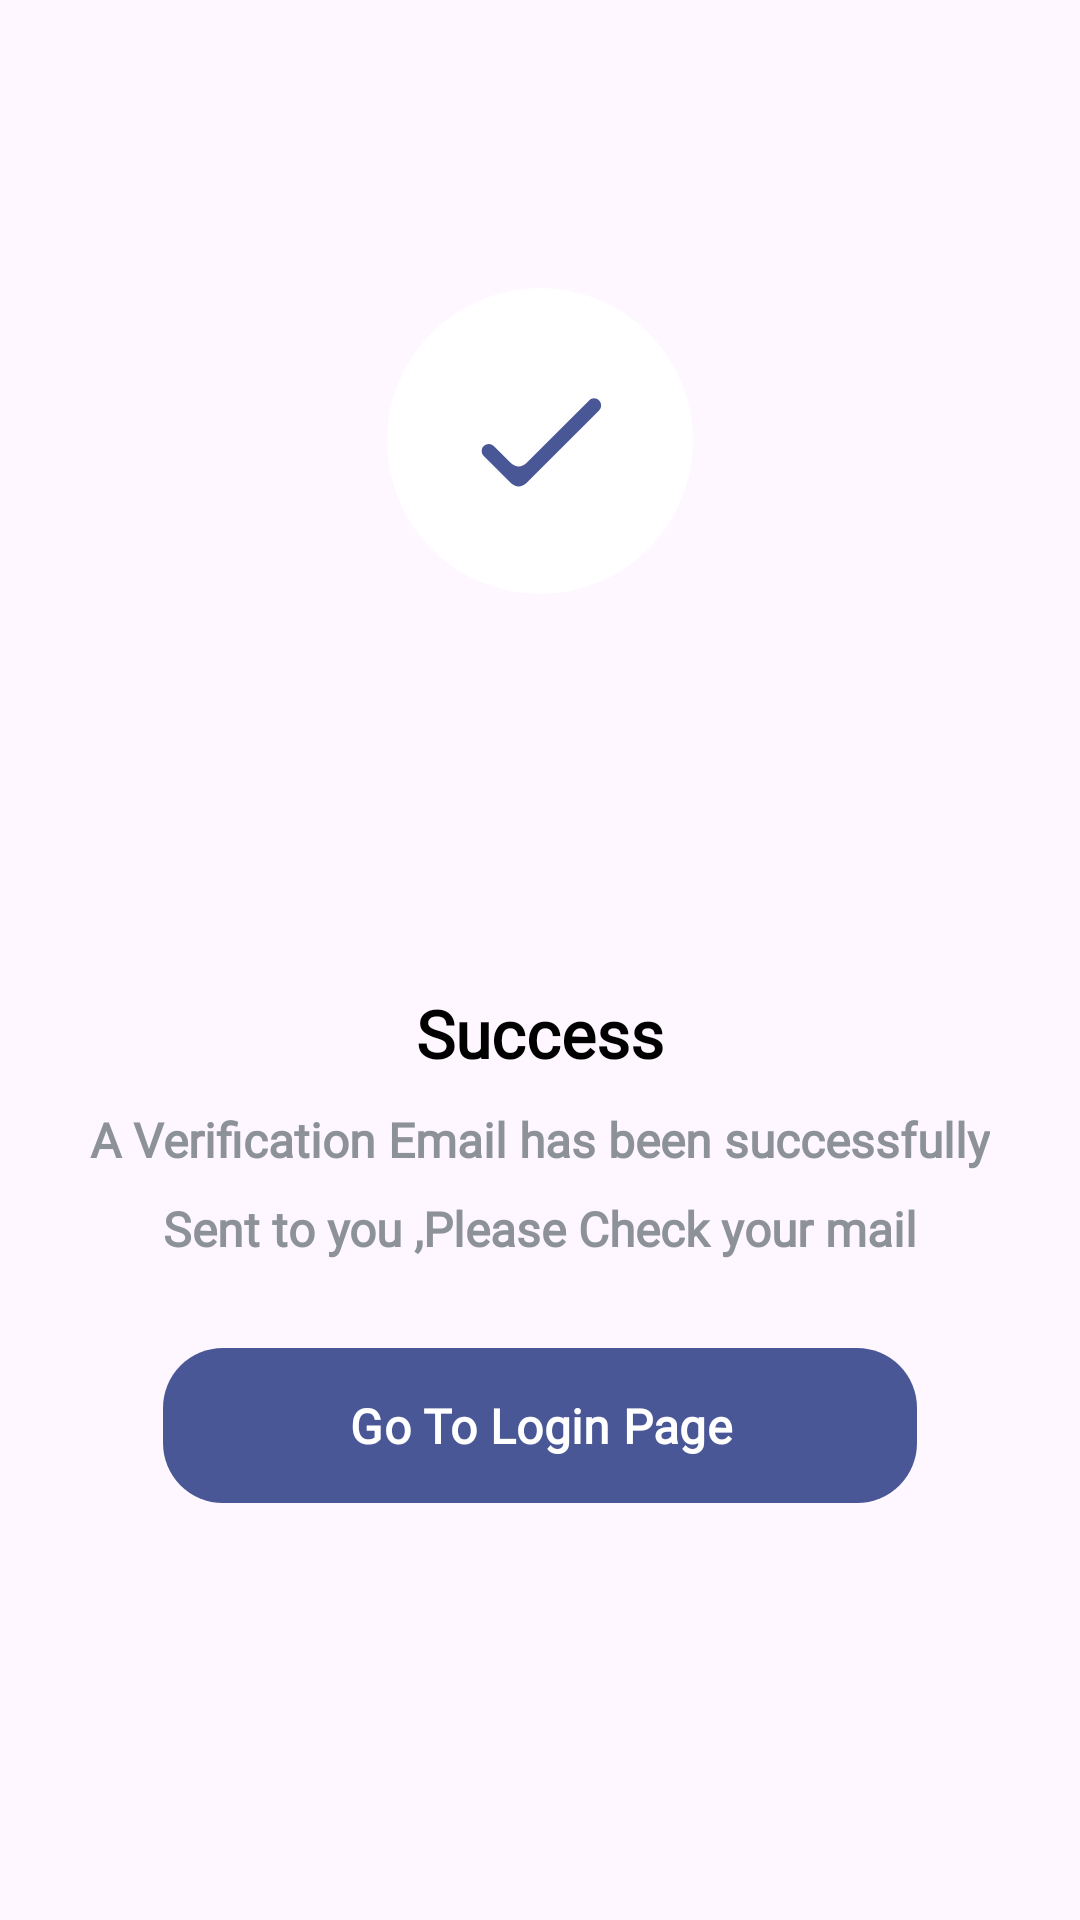

Where to tap for icons on this 1080px×1920px app screen, as [x,y]:
done: [541,442]
